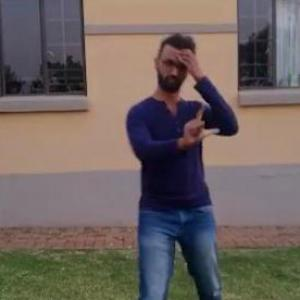land_hand: (176, 95, 223, 152)
